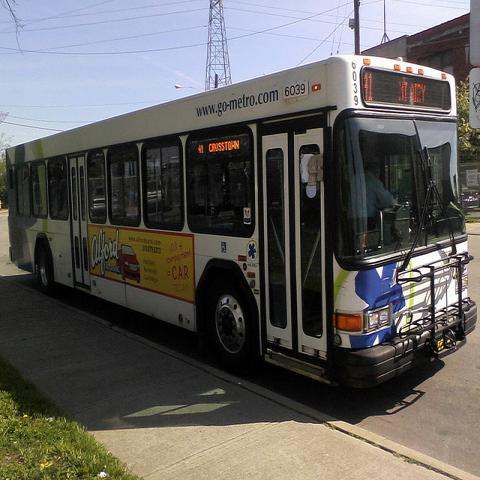bus: (5, 57, 476, 392)
car: (118, 244, 140, 284)
